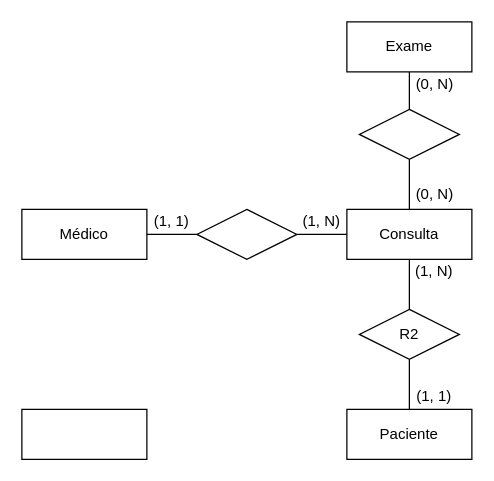
This 494x481 diagram has some shape labels left out. Here are the shapes that lost their labels. From the top down, the centre of each, then its label:
At [408,133]: "R3".
At [246,233]: "R1".
At [84,433]: "Secretaria".
